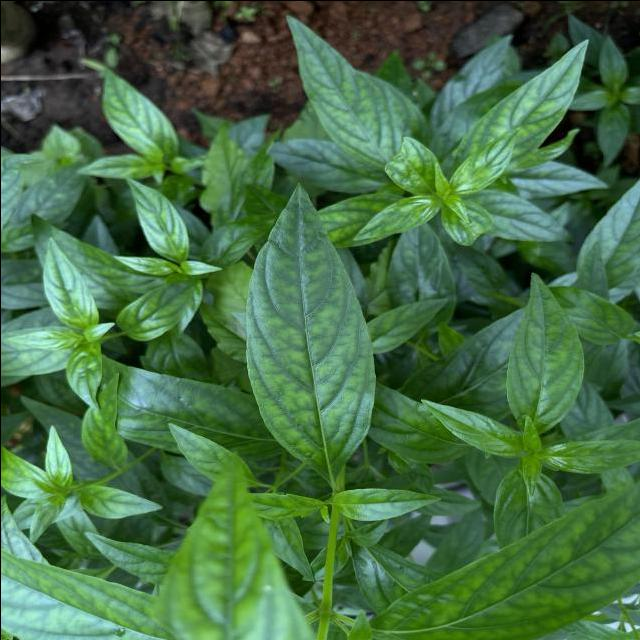Andrographis paniculata: (243, 178, 378, 480), (283, 13, 430, 170), (450, 38, 590, 180), (502, 269, 584, 431), (419, 397, 528, 458), (124, 176, 191, 260), (114, 276, 198, 341), (41, 235, 98, 330), (446, 125, 520, 195), (363, 297, 449, 353), (80, 372, 128, 468), (328, 484, 444, 522), (352, 194, 438, 241), (78, 483, 164, 519), (64, 339, 102, 410), (42, 425, 74, 488), (5, 329, 81, 350), (111, 254, 175, 276)
